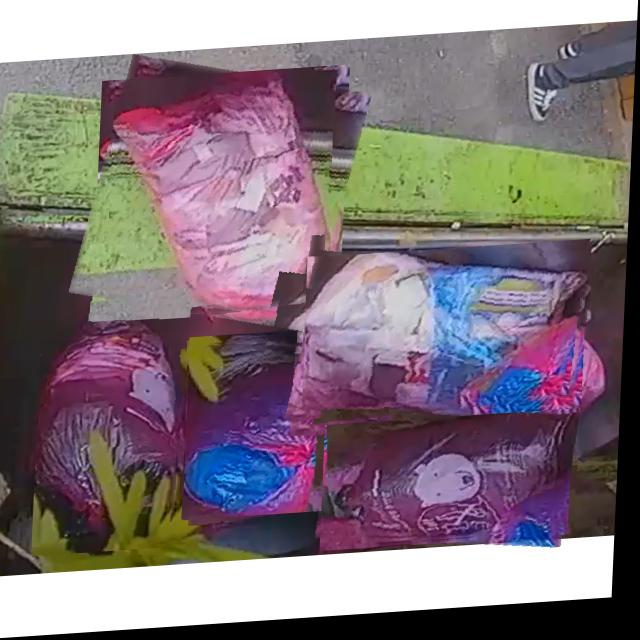other_trashbag: (115, 76, 330, 318), (309, 258, 592, 418), (40, 303, 185, 554), (189, 347, 398, 520), (328, 419, 584, 548)
